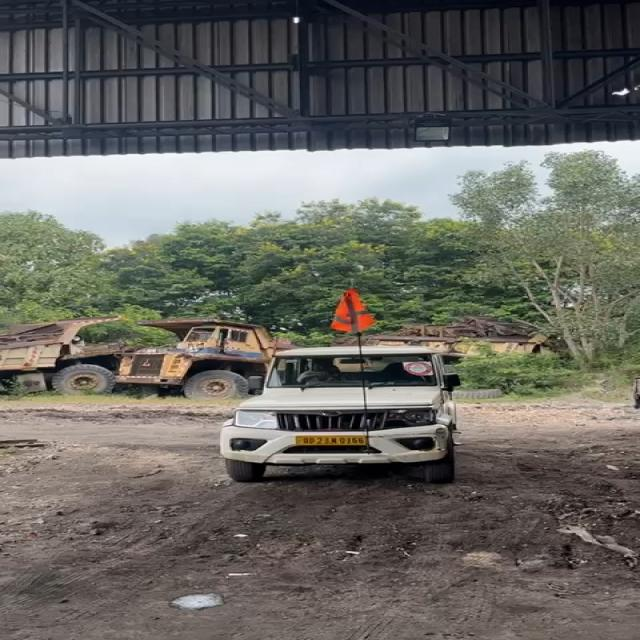light_vehicle: (224, 345, 465, 484)
